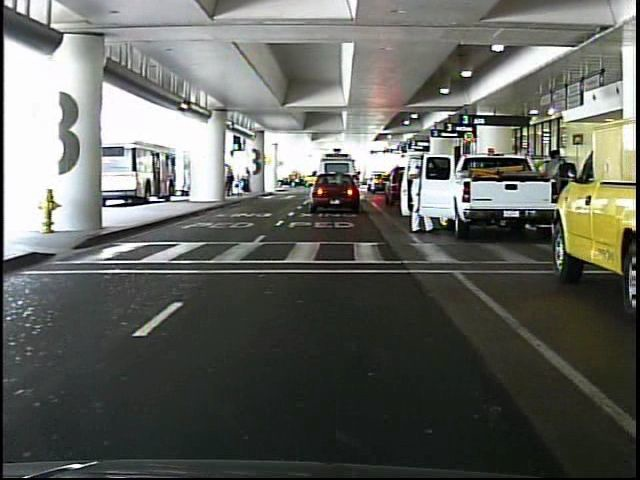person: (407, 147, 439, 237), (536, 143, 572, 221), (242, 165, 256, 195), (224, 163, 236, 198)
